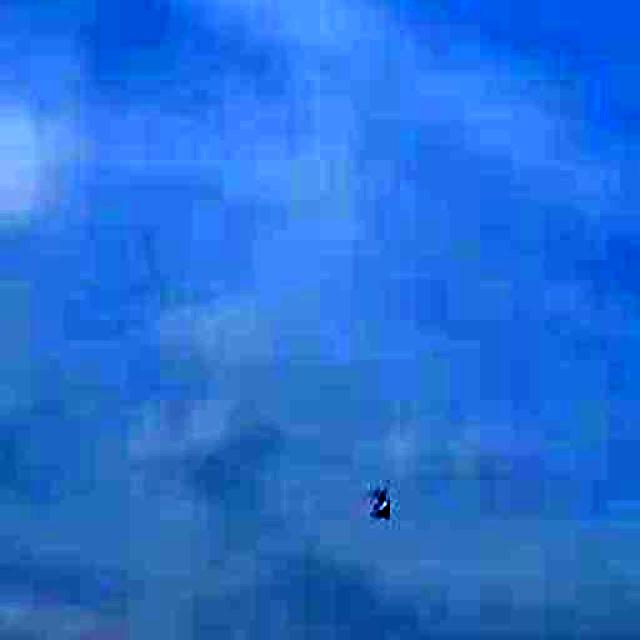drone: (361, 475, 402, 531)
